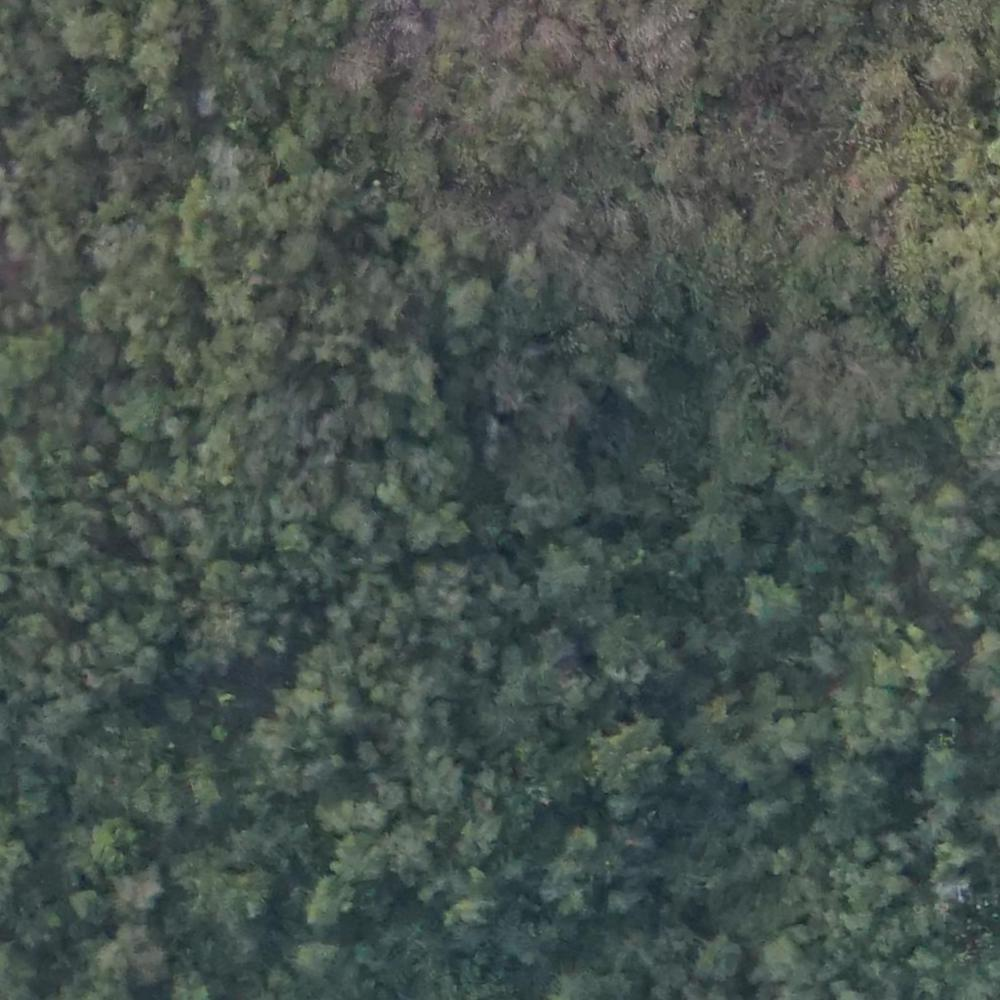tree: (260, 713, 338, 792), (592, 722, 667, 798), (408, 563, 473, 625), (375, 348, 433, 417), (127, 759, 188, 821), (115, 378, 176, 436), (911, 484, 970, 543), (896, 630, 954, 689), (397, 672, 453, 732), (544, 546, 602, 603), (64, 8, 124, 60), (687, 930, 741, 987), (444, 874, 492, 936), (409, 754, 464, 807), (192, 425, 243, 481), (325, 834, 382, 884), (89, 819, 142, 872), (744, 575, 797, 628), (931, 44, 983, 97), (91, 213, 140, 268), (79, 62, 133, 111), (408, 504, 463, 552), (183, 175, 230, 230), (654, 126, 698, 182), (603, 628, 651, 676), (522, 99, 568, 148), (690, 508, 735, 556), (870, 695, 915, 742), (115, 864, 166, 905), (6, 333, 45, 384), (276, 682, 327, 721), (203, 557, 247, 600), (860, 67, 908, 105), (447, 281, 486, 323), (513, 249, 547, 289)
